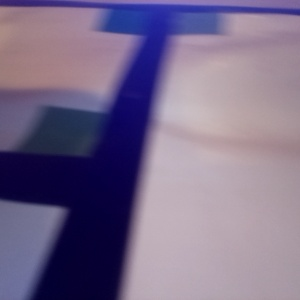bottom_left: (15, 73, 96, 123)
